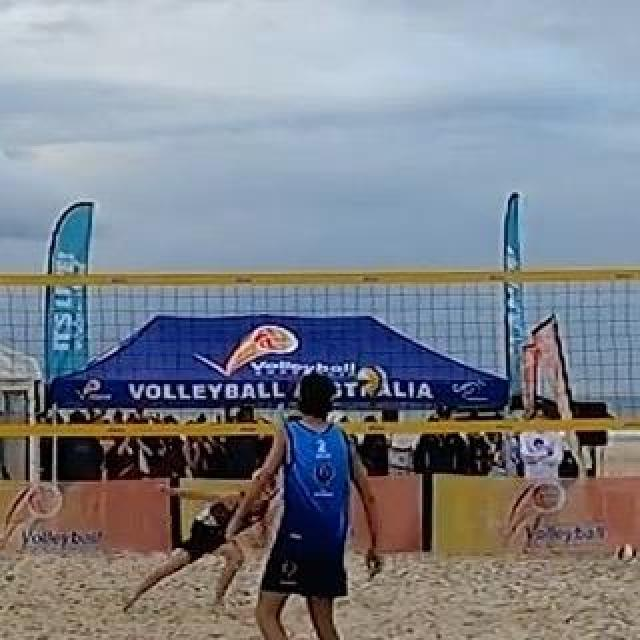volleyball: (357, 366, 385, 392), (617, 545, 635, 563)
